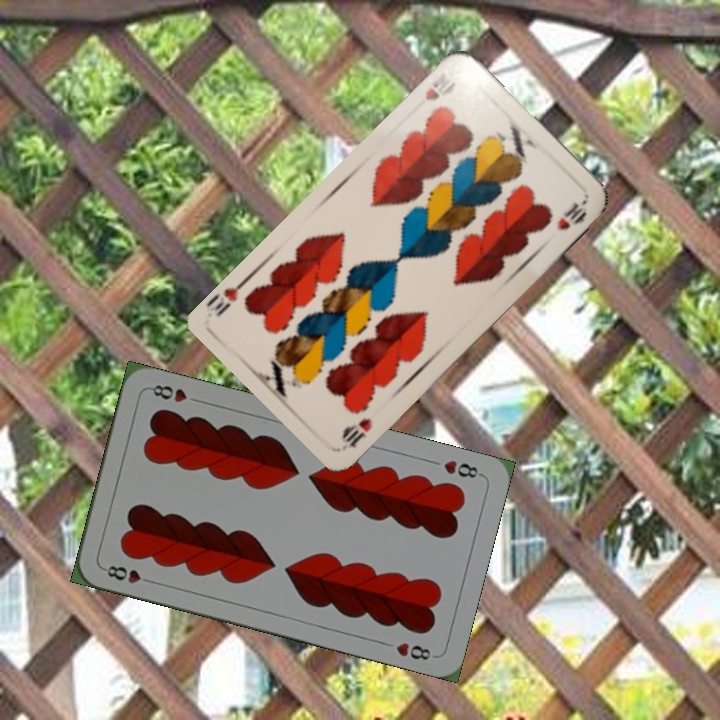H10: (337, 413, 375, 452), (421, 76, 459, 103)
H8: (99, 561, 157, 586), (439, 456, 485, 481)
